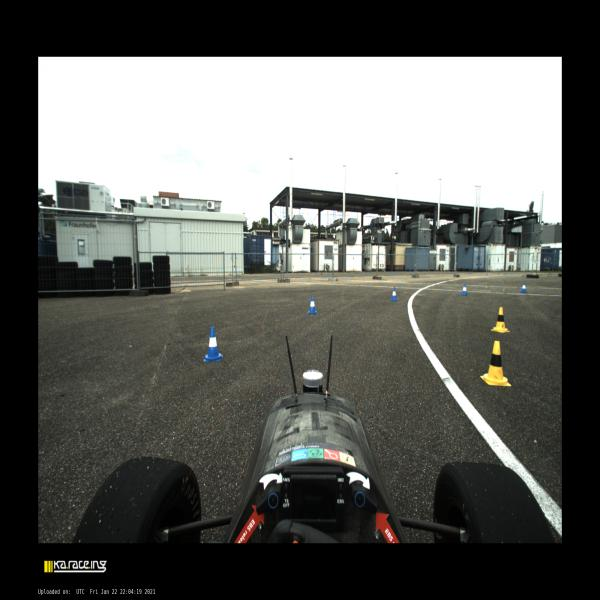blue_cone: (204, 327, 223, 361), (307, 296, 317, 315), (390, 287, 398, 301), (460, 284, 468, 296), (520, 282, 527, 293)
yellow_cone: (480, 341, 512, 386), (491, 307, 510, 333)
